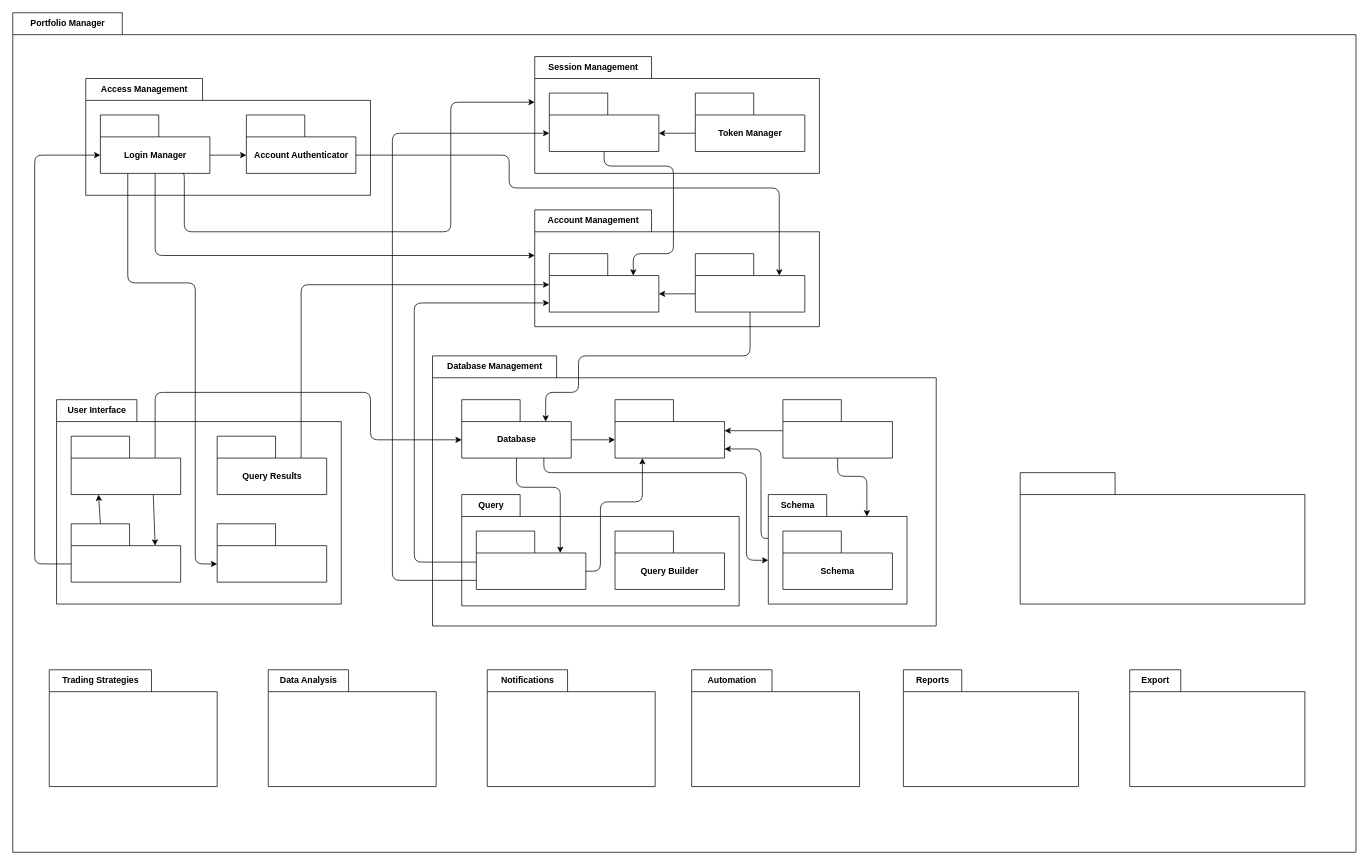
This 1369x865 diagram has some shape labels left out. Here are the shapes that lost their labels. From the top down, the centre of each, then its label:
the point at 604,121: Session Manager
the point at 604,282: Accounts
the point at 750,282: Account Operations
the point at 669,428: Connection
the point at 837,428: Backup
the point at 125,465: Dashboard
the point at 125,552: Menu
the point at 271,552: User Input
the point at 1162,538: Import Modules
the point at 531,559: Query Executor
